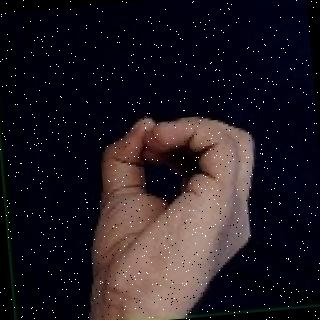O: (51, 100, 272, 320)
